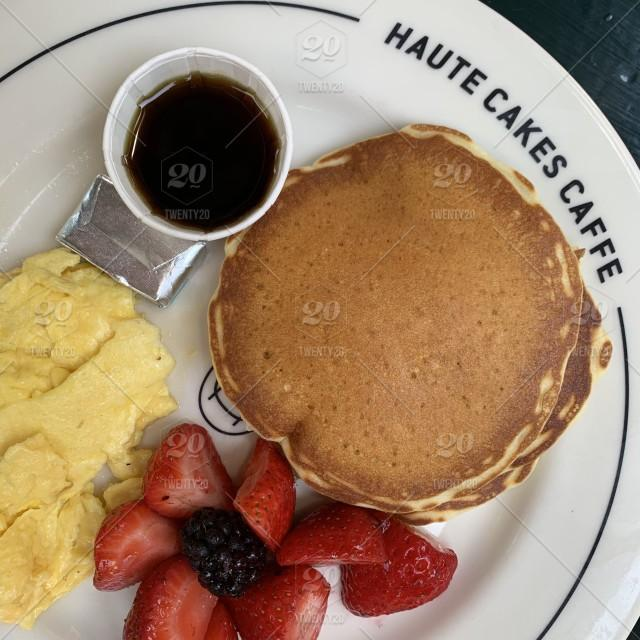Omelette: (2, 229, 168, 612)
Pancakes: (197, 122, 608, 519)
